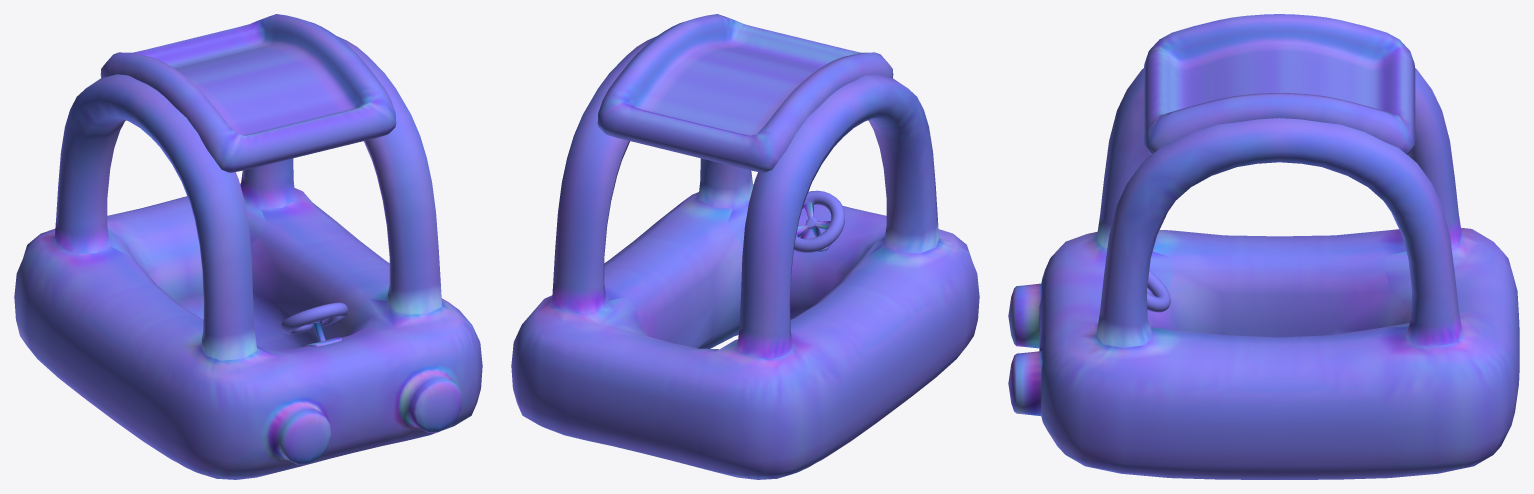
The picture shows the model from 3 angles, left to right: view 1: azimuth 30°, elevation 25°; view 2: azimuth 150°, elevation 25°; view 3: azimuth 270°, elevation 25°; orthographic projection. The views are drawn at different scales.
Visible parts, largest first — view 1: Torus; view 2: Torus; view 3: Torus.
Part boxes in pixels (x1,y1,x2,y2): Torus: (14, 14, 482, 479); Torus: (511, 14, 979, 479); Torus: (1008, 14, 1519, 479).
Bounding box in the file's own units: 277 × 308 × 390.
